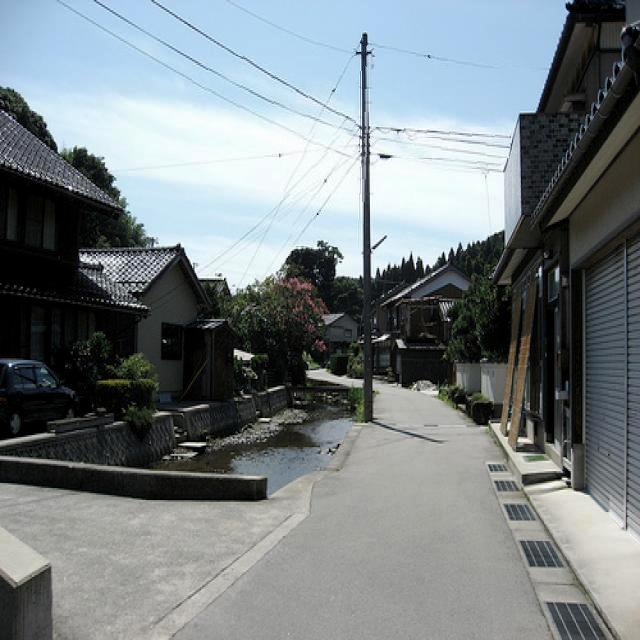pole: (362, 33, 369, 290)
wire: (192, 57, 357, 136), (284, 38, 362, 194), (292, 153, 362, 247), (368, 43, 519, 68), (374, 136, 510, 158), (371, 127, 511, 140), (377, 154, 503, 168)
